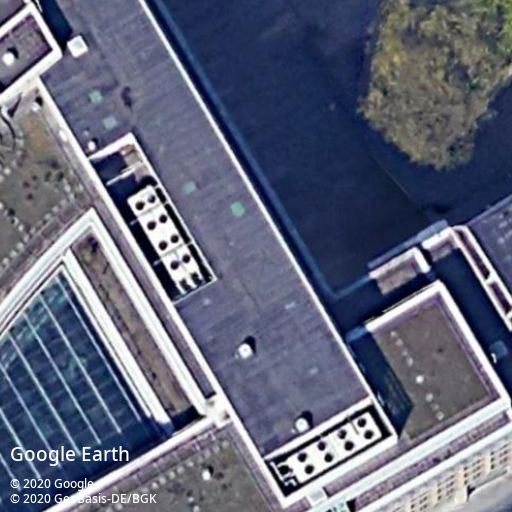Chiller: (287, 411, 383, 483), (127, 185, 200, 279)
